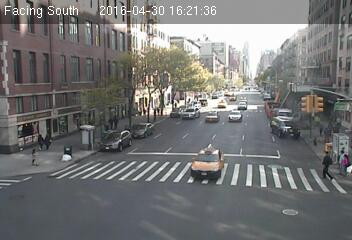neg: (112, 146, 168, 220), (203, 138, 224, 166), (230, 169, 250, 195), (185, 78, 198, 95), (154, 124, 166, 142), (175, 105, 186, 120), (194, 84, 204, 98)
